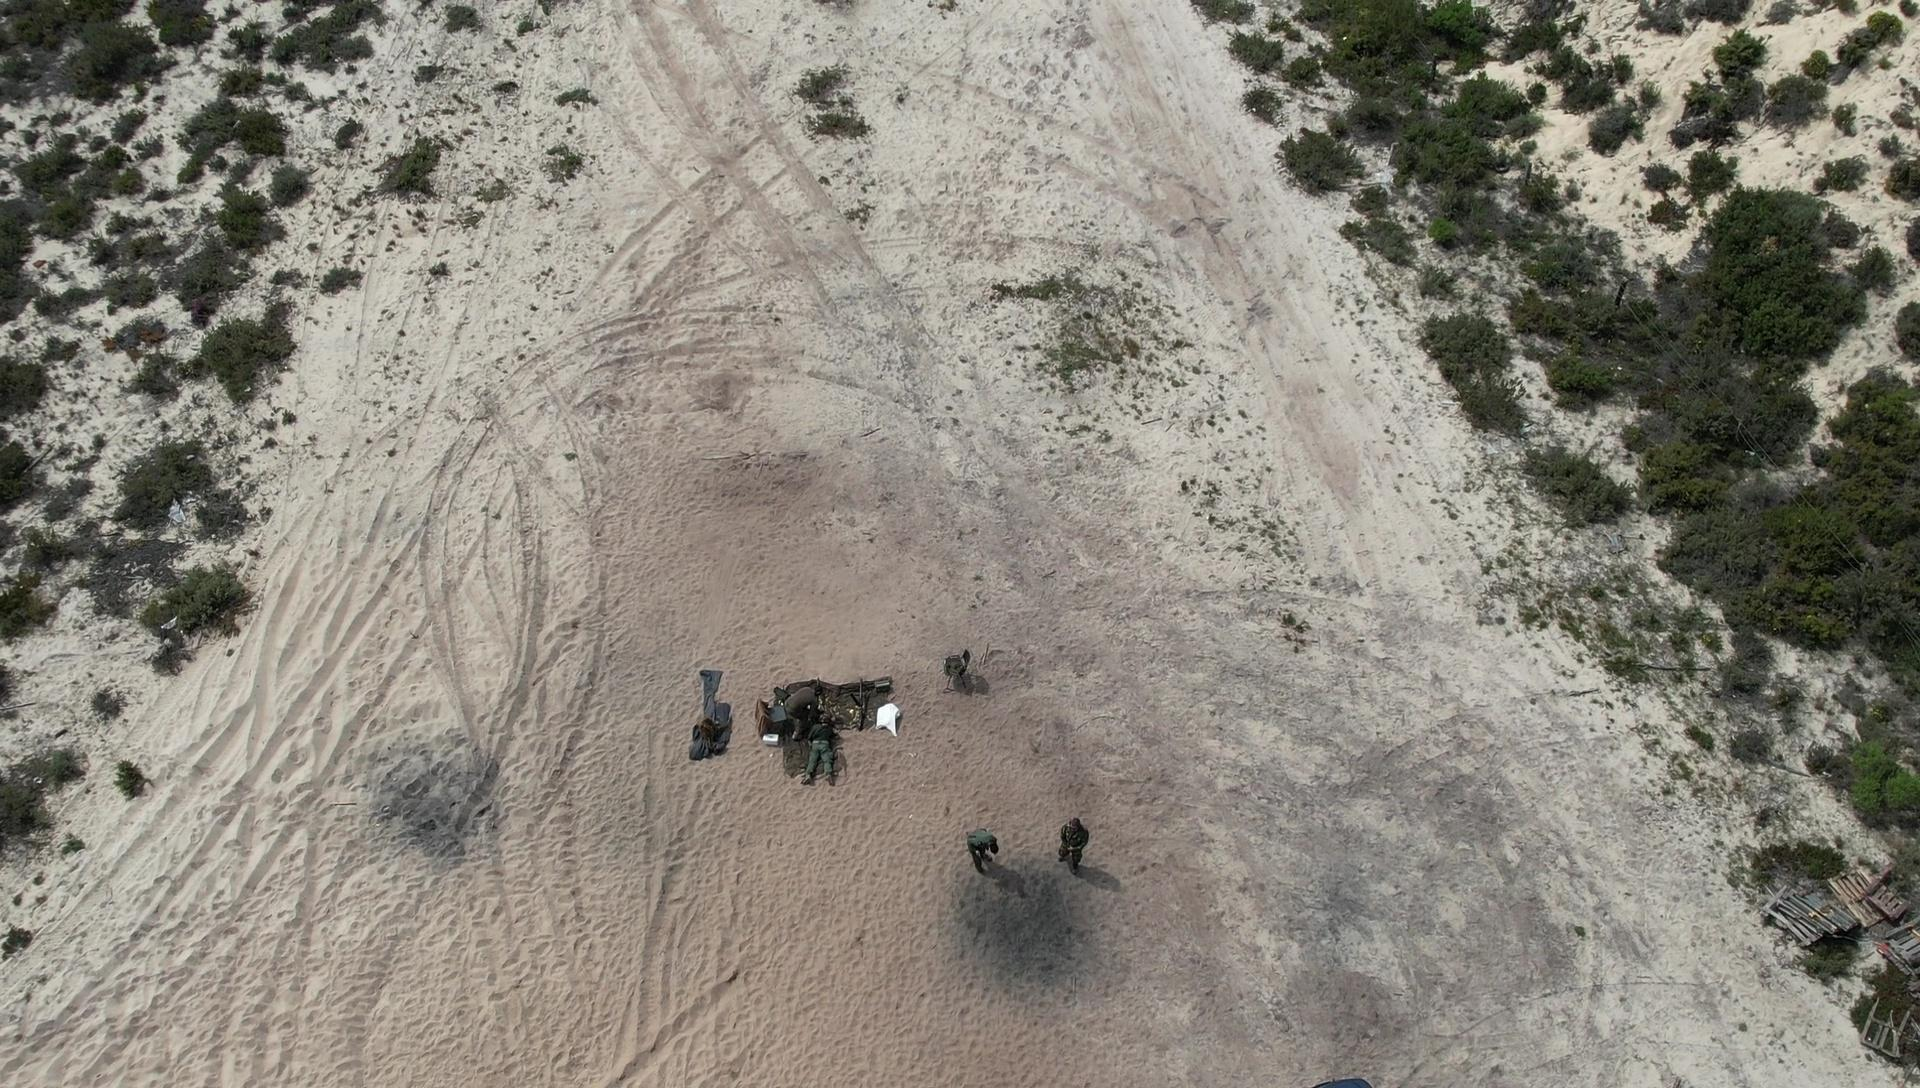Soldier: (1048, 810, 1100, 878), (773, 670, 822, 736), (800, 717, 841, 789), (963, 815, 1004, 885)
